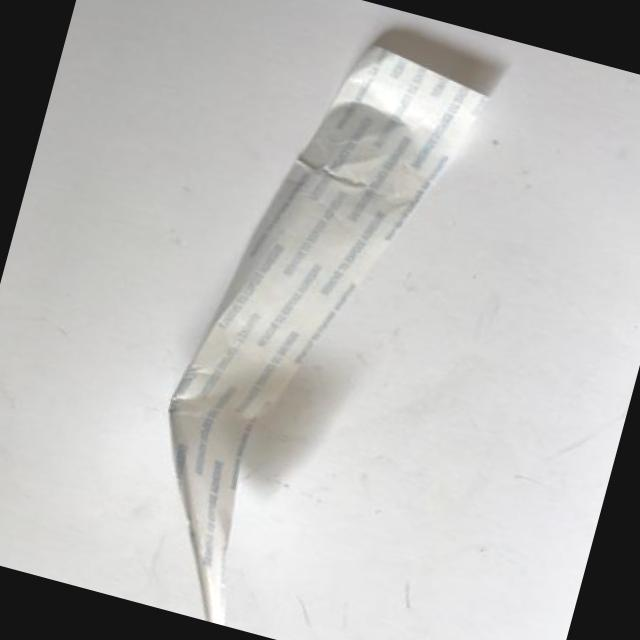paper: (161, 25, 454, 591)
